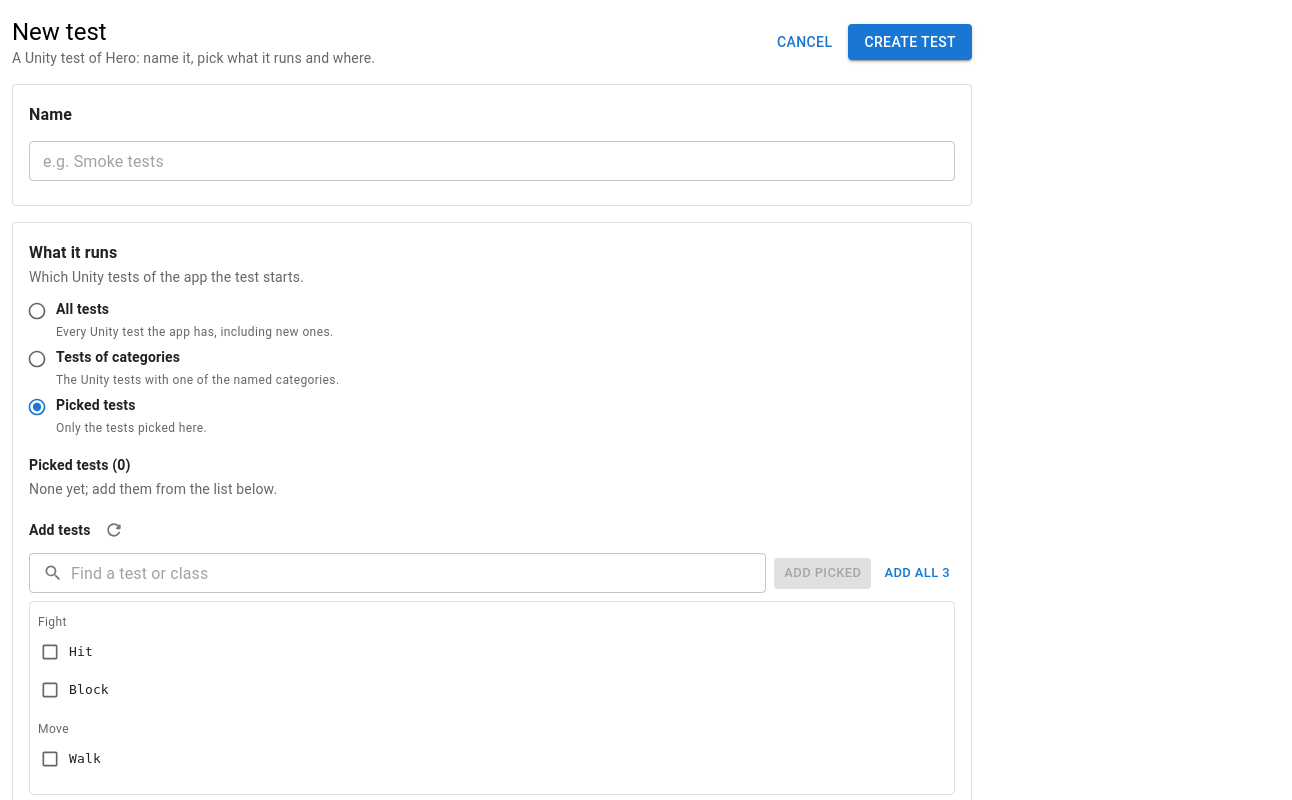
Scenario: TestPicker with the Unity editor › finds tests by name and says when none matches
Earlier steps of the test are not shown.
Check: the element named "Tests to add" is shown, box [29,601,955,795]
Type "blo" into the field named "Find a test to add" at {"x": 419, "y": 573}, box [71,553,766,593]
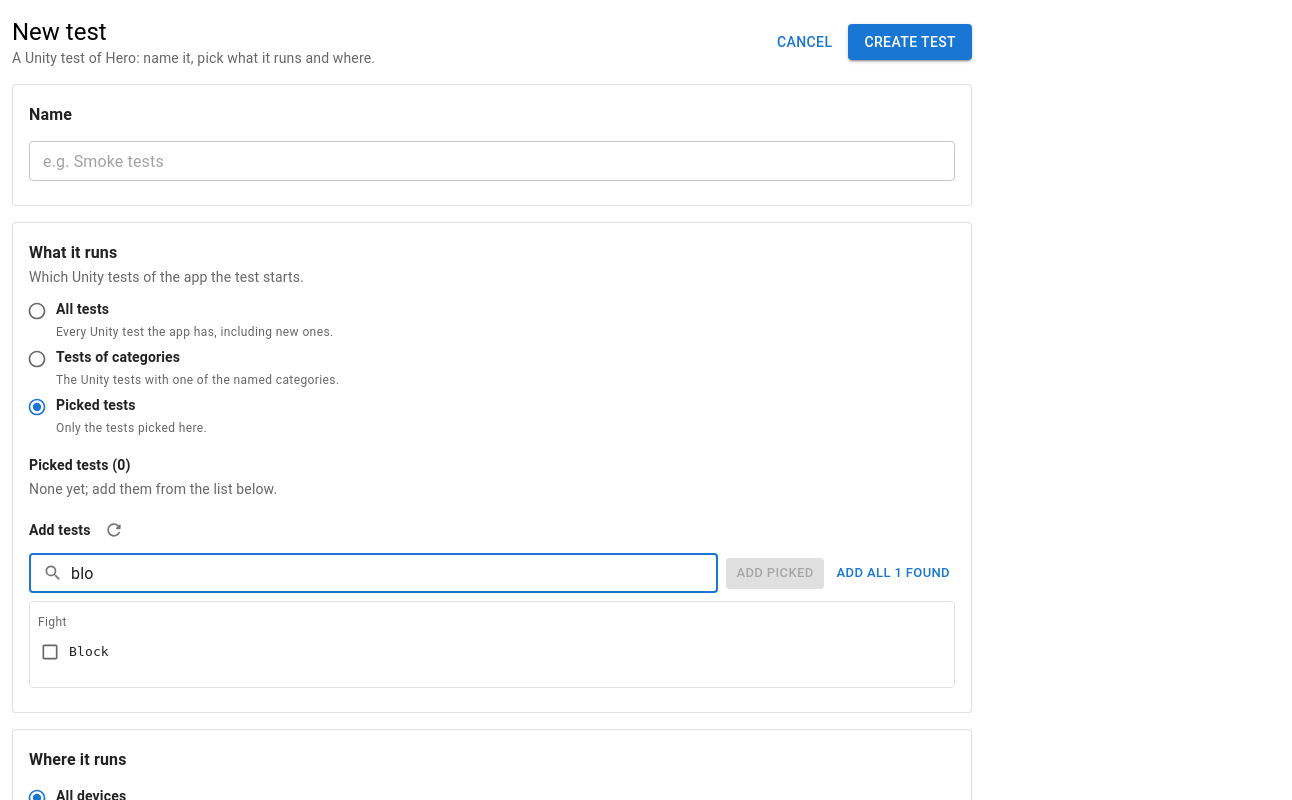
Check: the button "Add all 1 found" is shown, box [832,558,955,589]
Clear the field named "Find a test to add" at {"x": 395, "y": 573}, box [71,553,718,593]
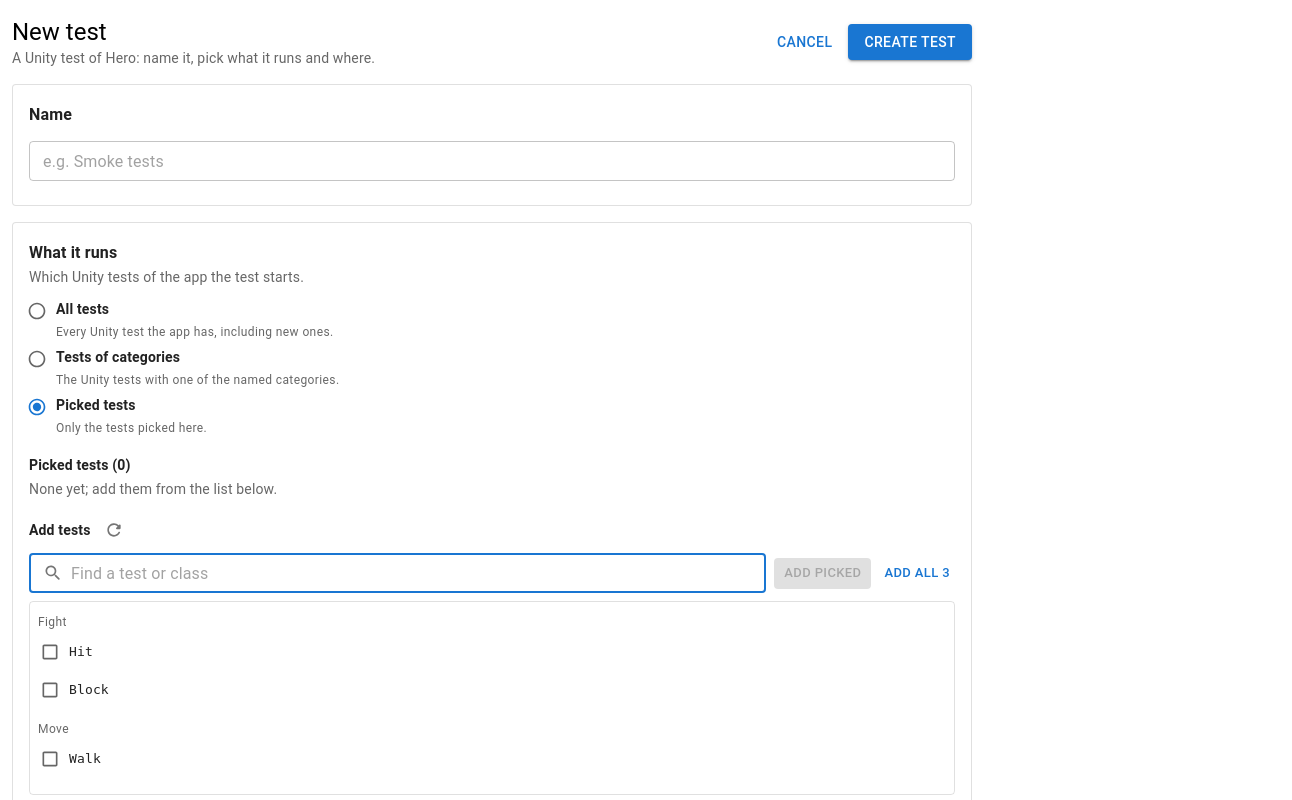
Type "zzz" into the field named "Find a test to add" at {"x": 419, "y": 573}, box [71,553,766,593]
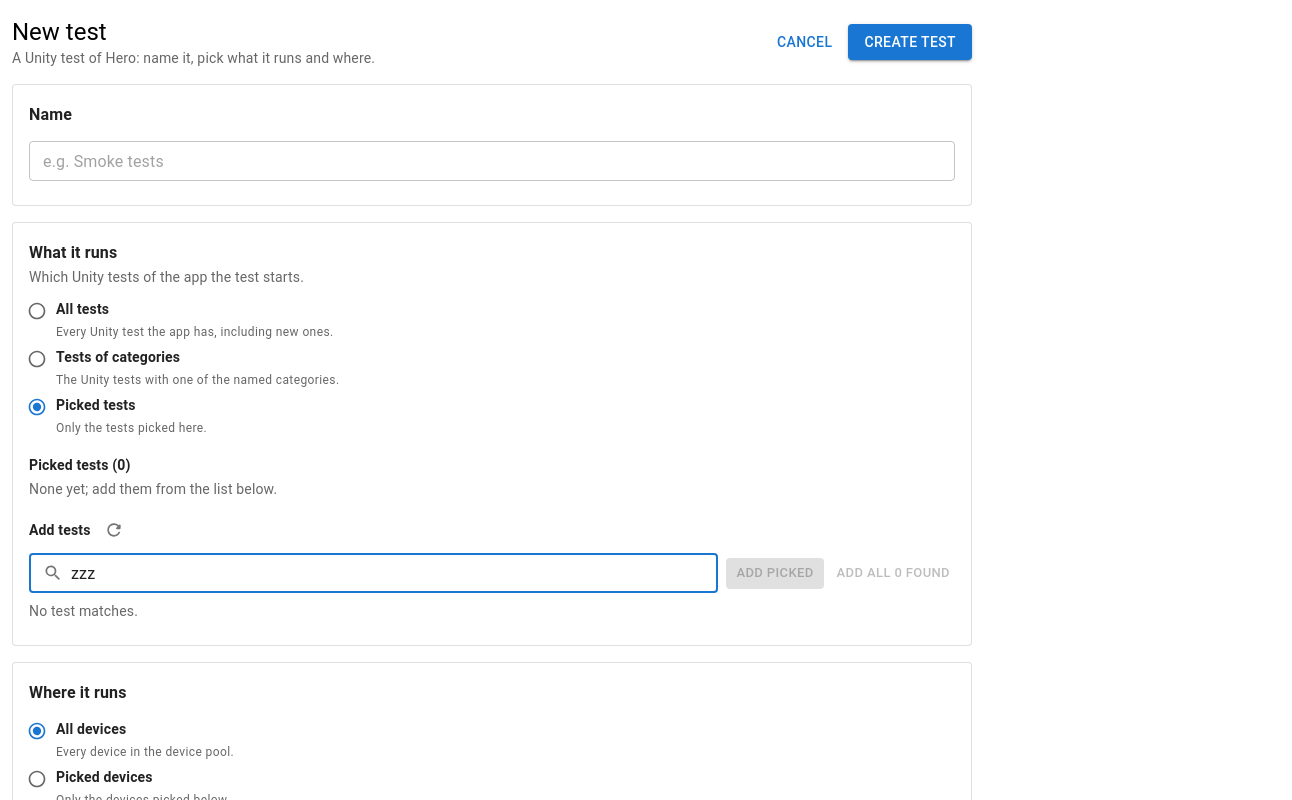
Check: the text "No test matches." is shown, box [29,603,138,619]
